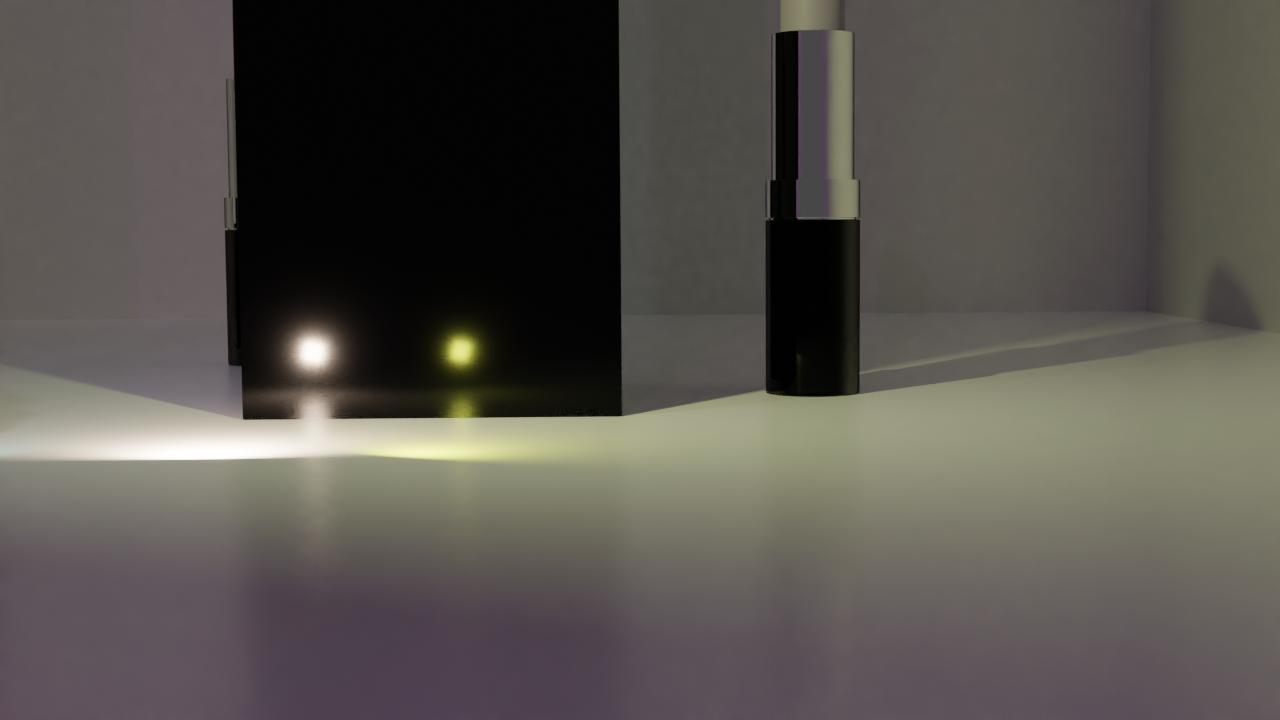CLASSIFIER_NAME: (764, 0, 862, 396)
